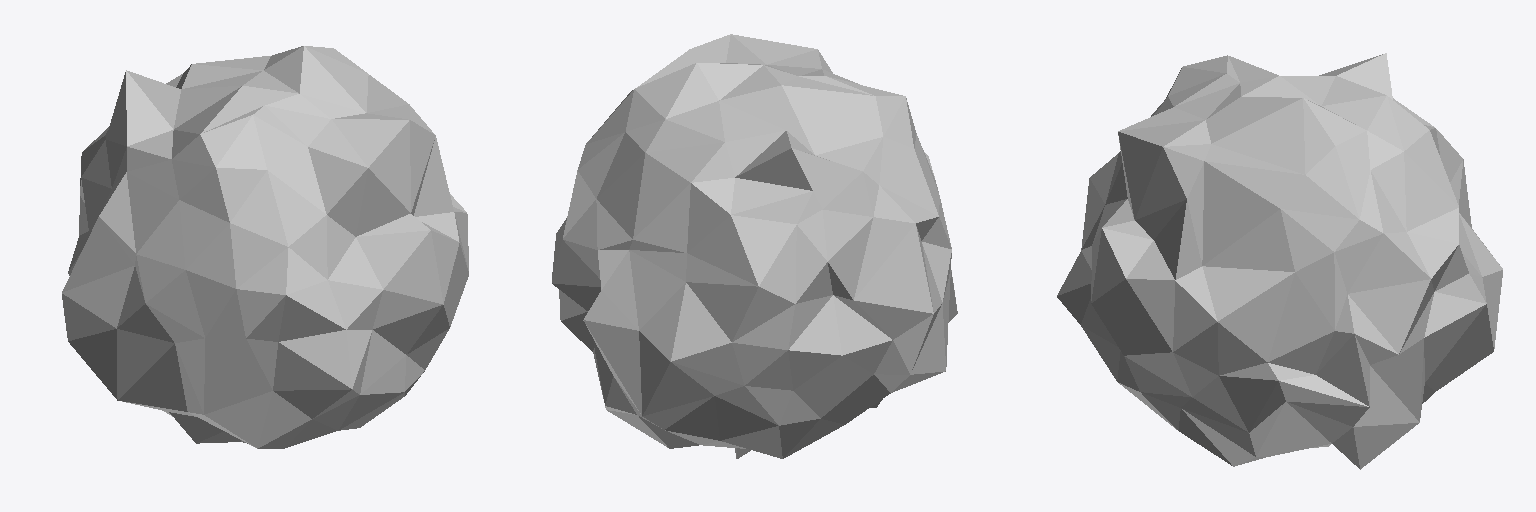
The model's file is fire_000001.obj.
3 views of the same model, side by side, from view 1: azimuth 30°, elevation 25°; view 2: azimuth 150°, elevation 25°; view 3: azimuth 270°, elevation 25° (orthographic).
Parts seen in each view (by area): view 1: Icosphere; view 2: Icosphere; view 3: Icosphere.
Part boxes in pixels (x1,y1,x2,y2): Icosphere: (62,46,468,448); Icosphere: (552,34,957,458); Icosphere: (1057,53,1502,469).
Bounding box in the file's own units: 1.56 × 1.55 × 1.68.